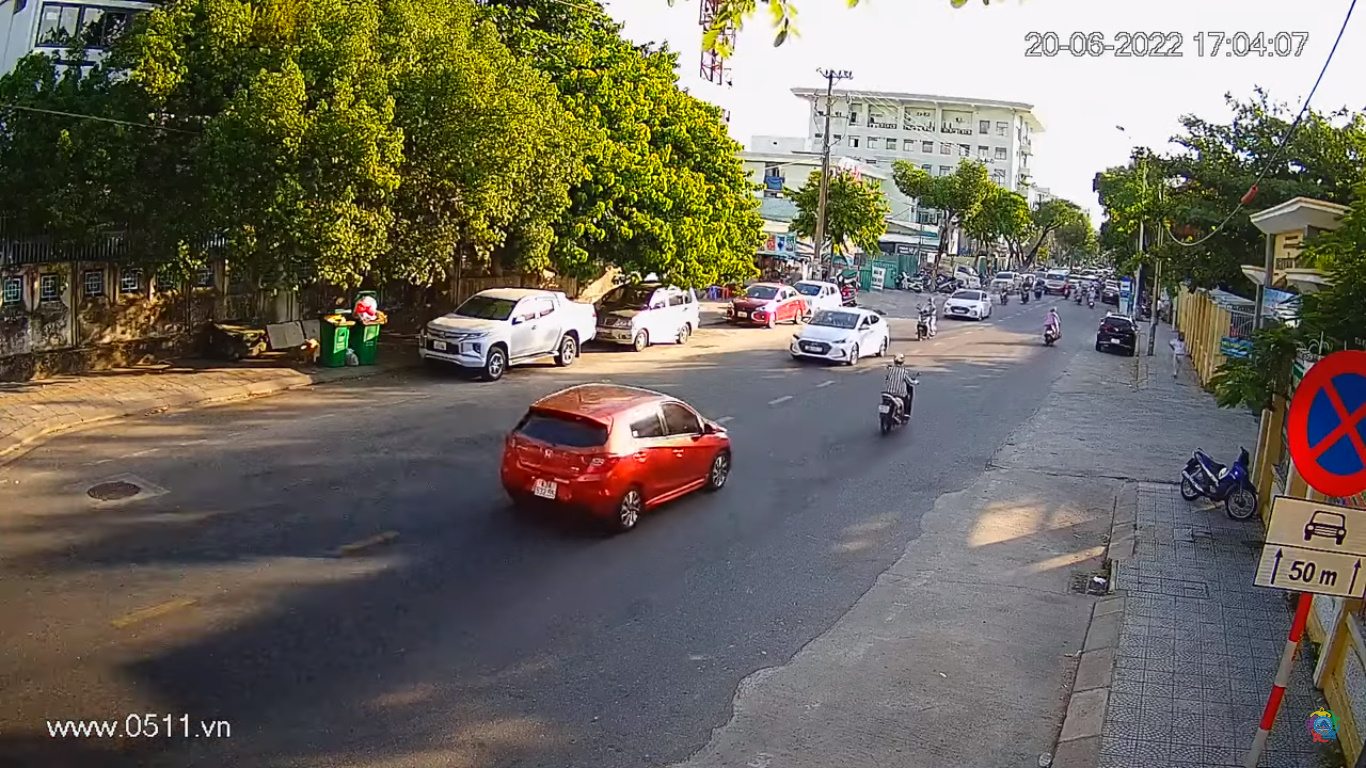car: (500, 384, 737, 529), (787, 304, 893, 366)
